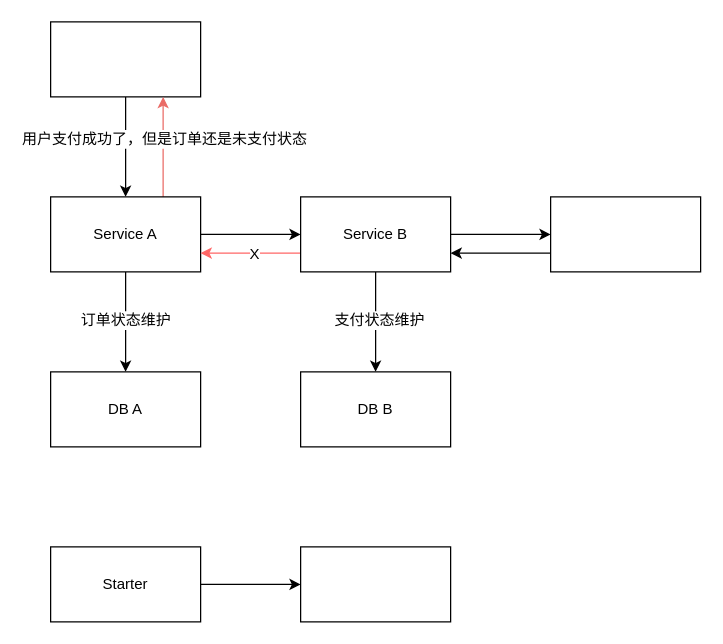
Some shapes in this 723 by 644 pixel diagram are drawn without their labels. Here are the shapes that lost their labels. From the top down, the box of each, then its label:
(49, 21, 201, 97): Request
(549, 196, 701, 272): ServiceC
(299, 546, 451, 622): Coordinator协调者
